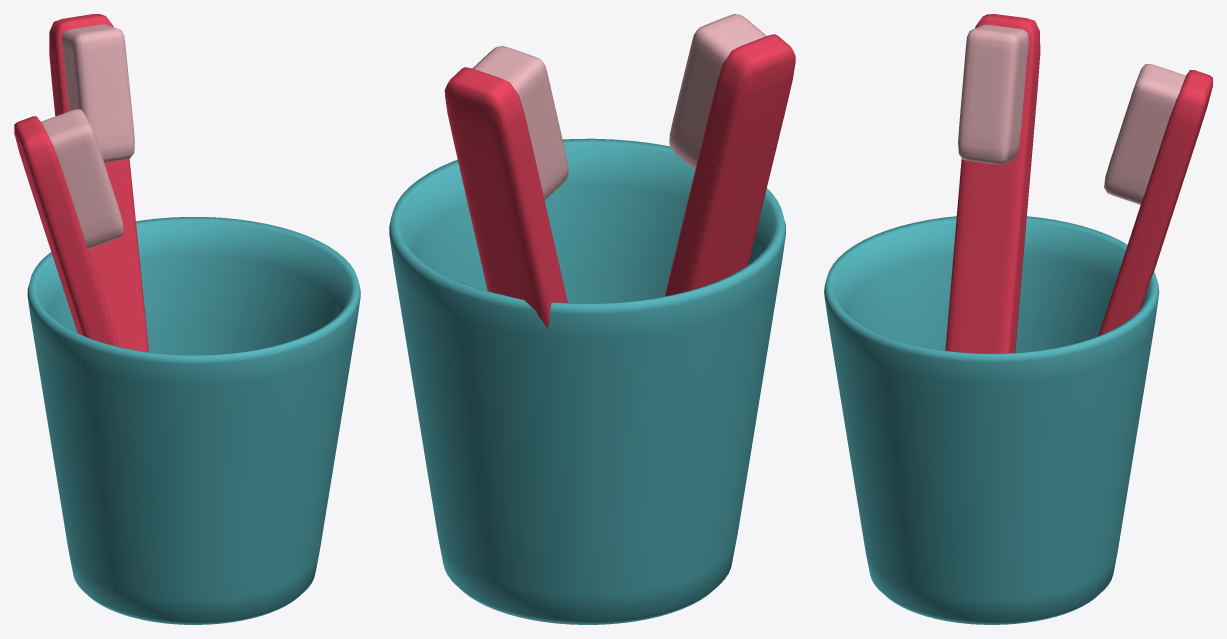
Rendered from Sikat Gigi dan Gelas.fbx.
3 views of the same model, side by side, from view 1: azimuth 30°, elevation 25°; view 2: azimuth 150°, elevation 25°; view 3: azimuth 270°, elevation 25° (orthographic). The views are drawn at different scales.
Parts seen in each view (by area): view 1: Toothbrush1; view 2: Toothbrush1; view 3: Toothbrush1.
Boxes of the visible parts, left/top/right/bottom form: Toothbrush1: left=14, top=14, right=360, bottom=624; Toothbrush1: left=389, top=14, right=795, bottom=624; Toothbrush1: left=824, top=14, right=1212, bottom=624.
Bounding box in the file's own units: 26.01 × 38.96 × 27.65.
